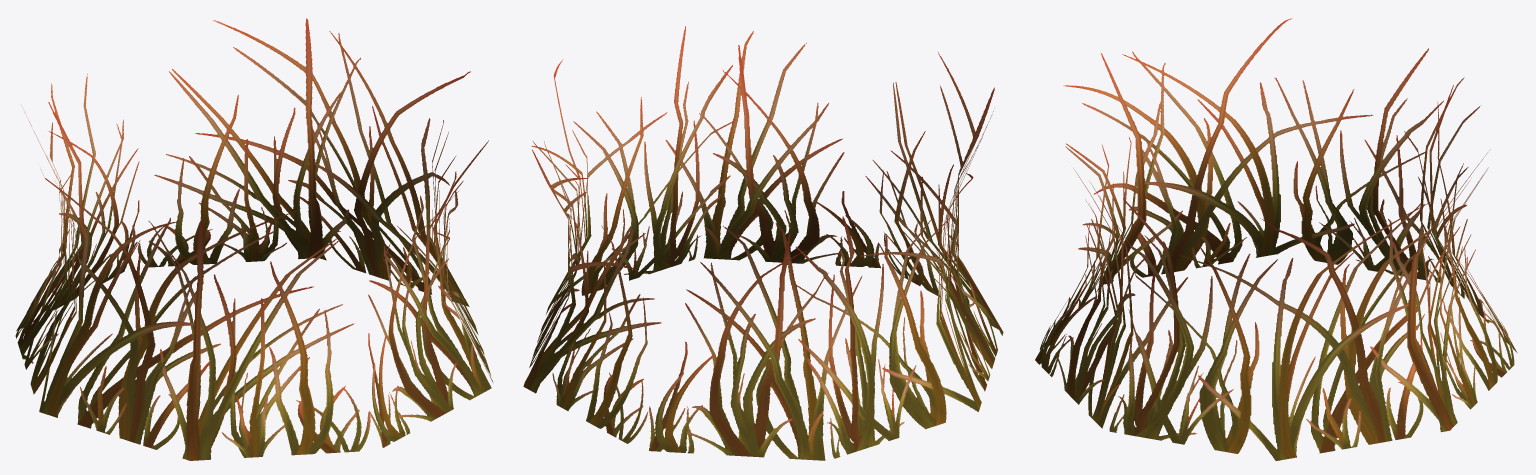
The model's file is Grass02.FBX.
The picture shows the model from 3 angles, left to right: view 1: azimuth 30°, elevation 25°; view 2: azimuth 150°, elevation 25°; view 3: azimuth 270°, elevation 25°; orthographic projection.
Visible parts, largest first — view 1: Grass01; view 2: Grass01; view 3: Grass01.
Part boxes in pixels (left/top/right/bottom): Grass01: left=15, top=18, right=493, bottom=460; Grass01: left=523, top=26, right=1003, bottom=460; Grass01: left=1035, top=18, right=1517, bottom=460.
Bounding box in the file's own units: 10.66 × 5.78 × 10.66.
